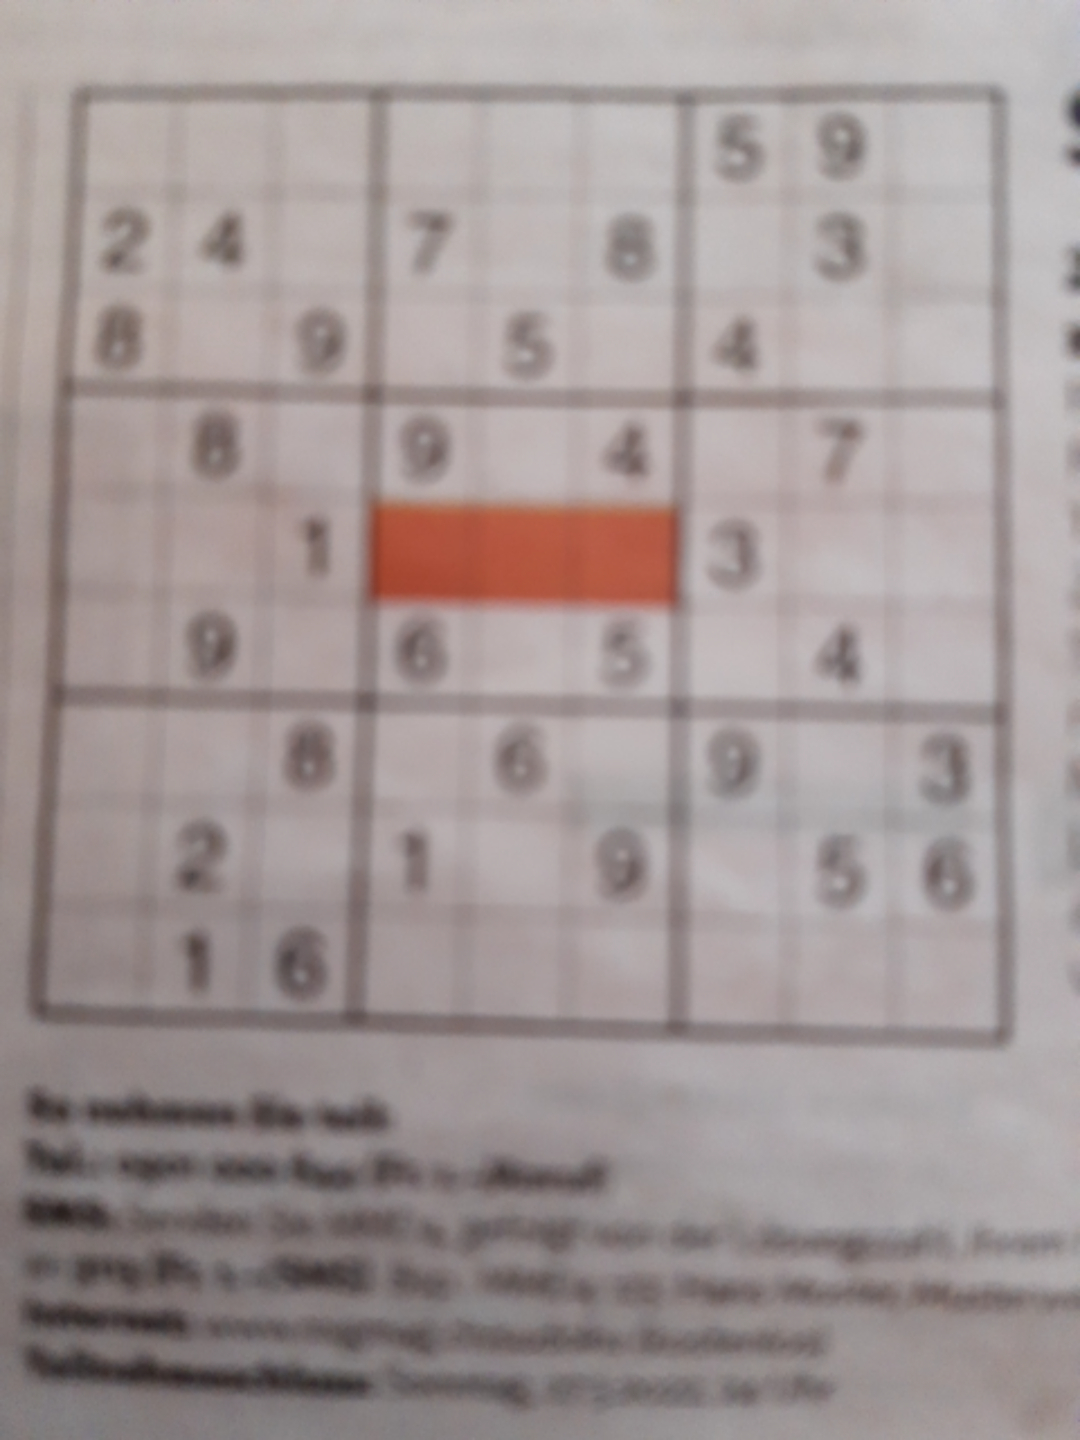sudoku: (21, 78, 1007, 1044)
